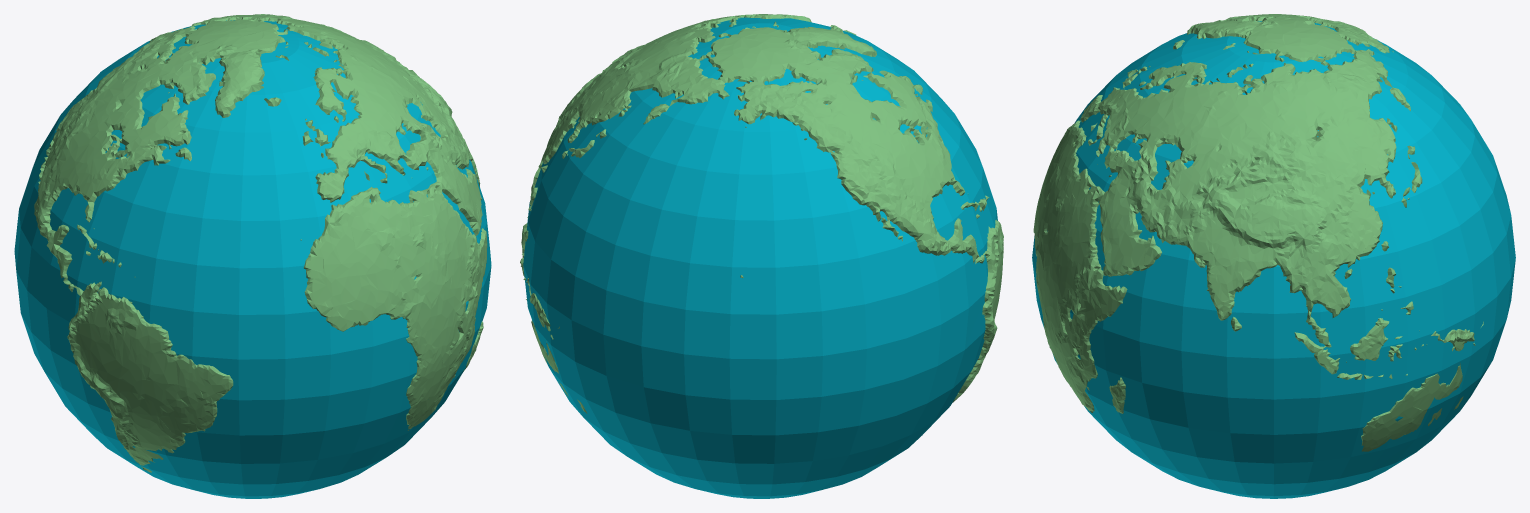
Rendered from earth_basic_test.glb.
3 renders of one model, left to right at view 1: azimuth 30°, elevation 25°; view 2: azimuth 150°, elevation 25°; view 3: azimuth 270°, elevation 25°, orthographic.
Visible parts, largest first — view 1: Mesh_Mesh_head_geo.001_lambert2SG.001; view 2: Mesh_Mesh_head_geo.001_lambert2SG.001; view 3: Mesh_Mesh_head_geo.001_lambert2SG.001.
Boxes of the visible parts, <box> form: Mesh_Mesh_head_geo.001_lambert2SG.001: <box>14,14,491,498</box>; Mesh_Mesh_head_geo.001_lambert2SG.001: <box>520,14,1003,498</box>; Mesh_Mesh_head_geo.001_lambert2SG.001: <box>1032,14,1515,498</box>.
Size of the model in its own units: 80.51 by 81.31 by 81.
